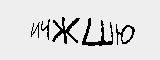Ж: (51, 15, 80, 43)
И: (27, 19, 42, 40)
Ч: (39, 16, 53, 39)
Ш: (80, 17, 115, 47)
Ю: (113, 22, 137, 49)
